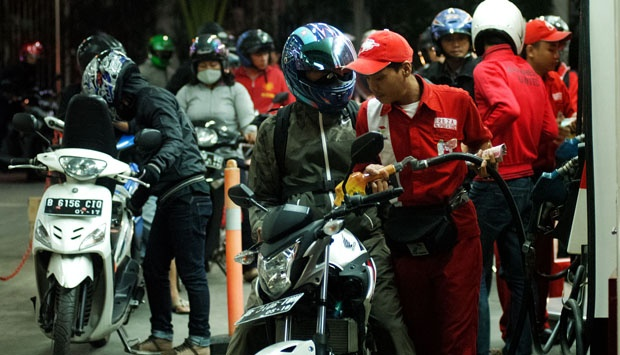plate: (45, 197, 100, 218)
